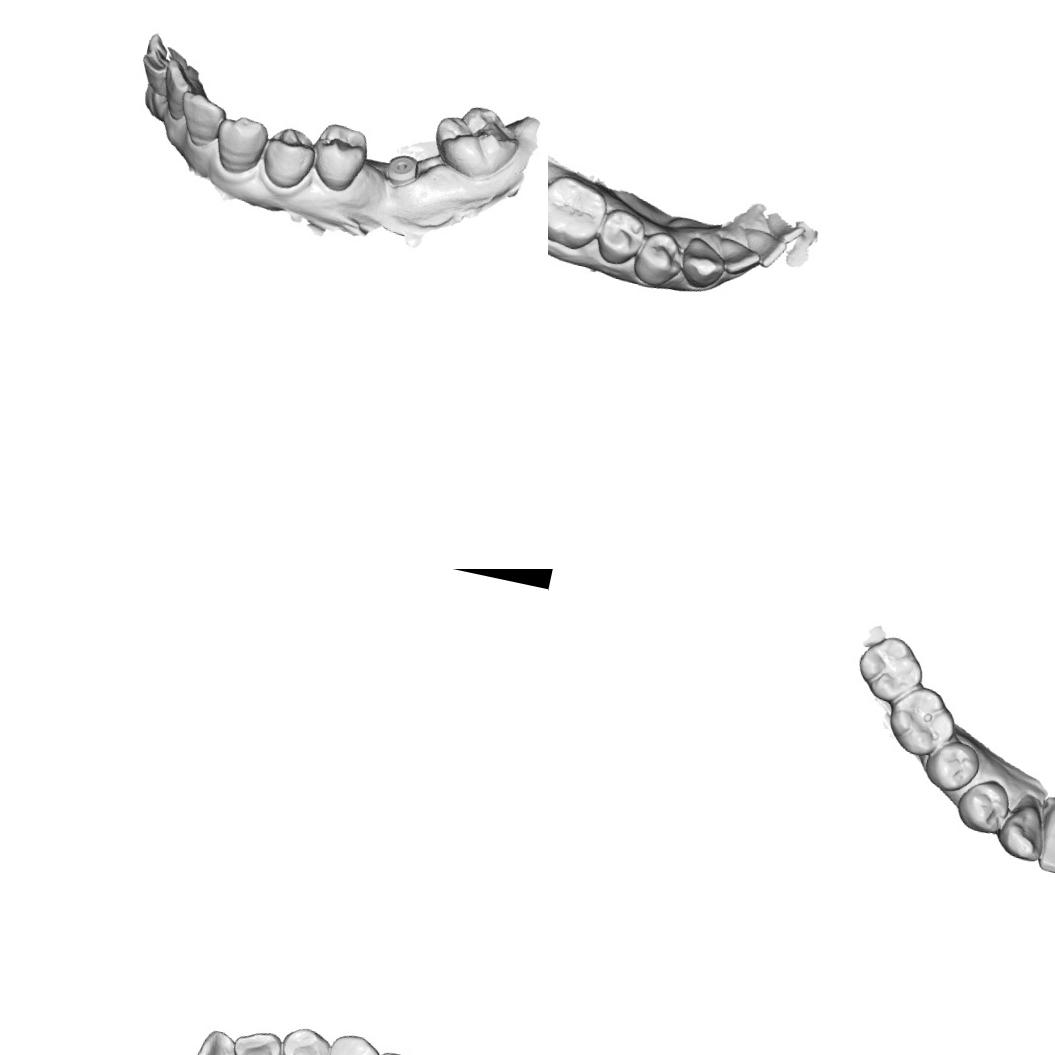canine: (211, 109, 272, 180), (993, 798, 1050, 864), (674, 232, 731, 294), (273, 1022, 335, 1055)
implant: (379, 148, 425, 192)
incisor: (176, 89, 230, 145), (734, 224, 792, 272), (156, 60, 200, 118), (711, 234, 765, 280), (184, 1023, 257, 1055), (225, 1023, 287, 1055), (759, 210, 809, 248), (1035, 811, 1055, 878)
molar: (430, 94, 527, 183), (882, 679, 963, 763), (850, 629, 930, 710), (548, 169, 611, 255)
premolar: (305, 116, 370, 194), (258, 122, 318, 194), (952, 772, 1016, 839), (628, 224, 689, 293), (919, 734, 984, 798), (592, 203, 652, 271), (318, 1028, 383, 1055)
